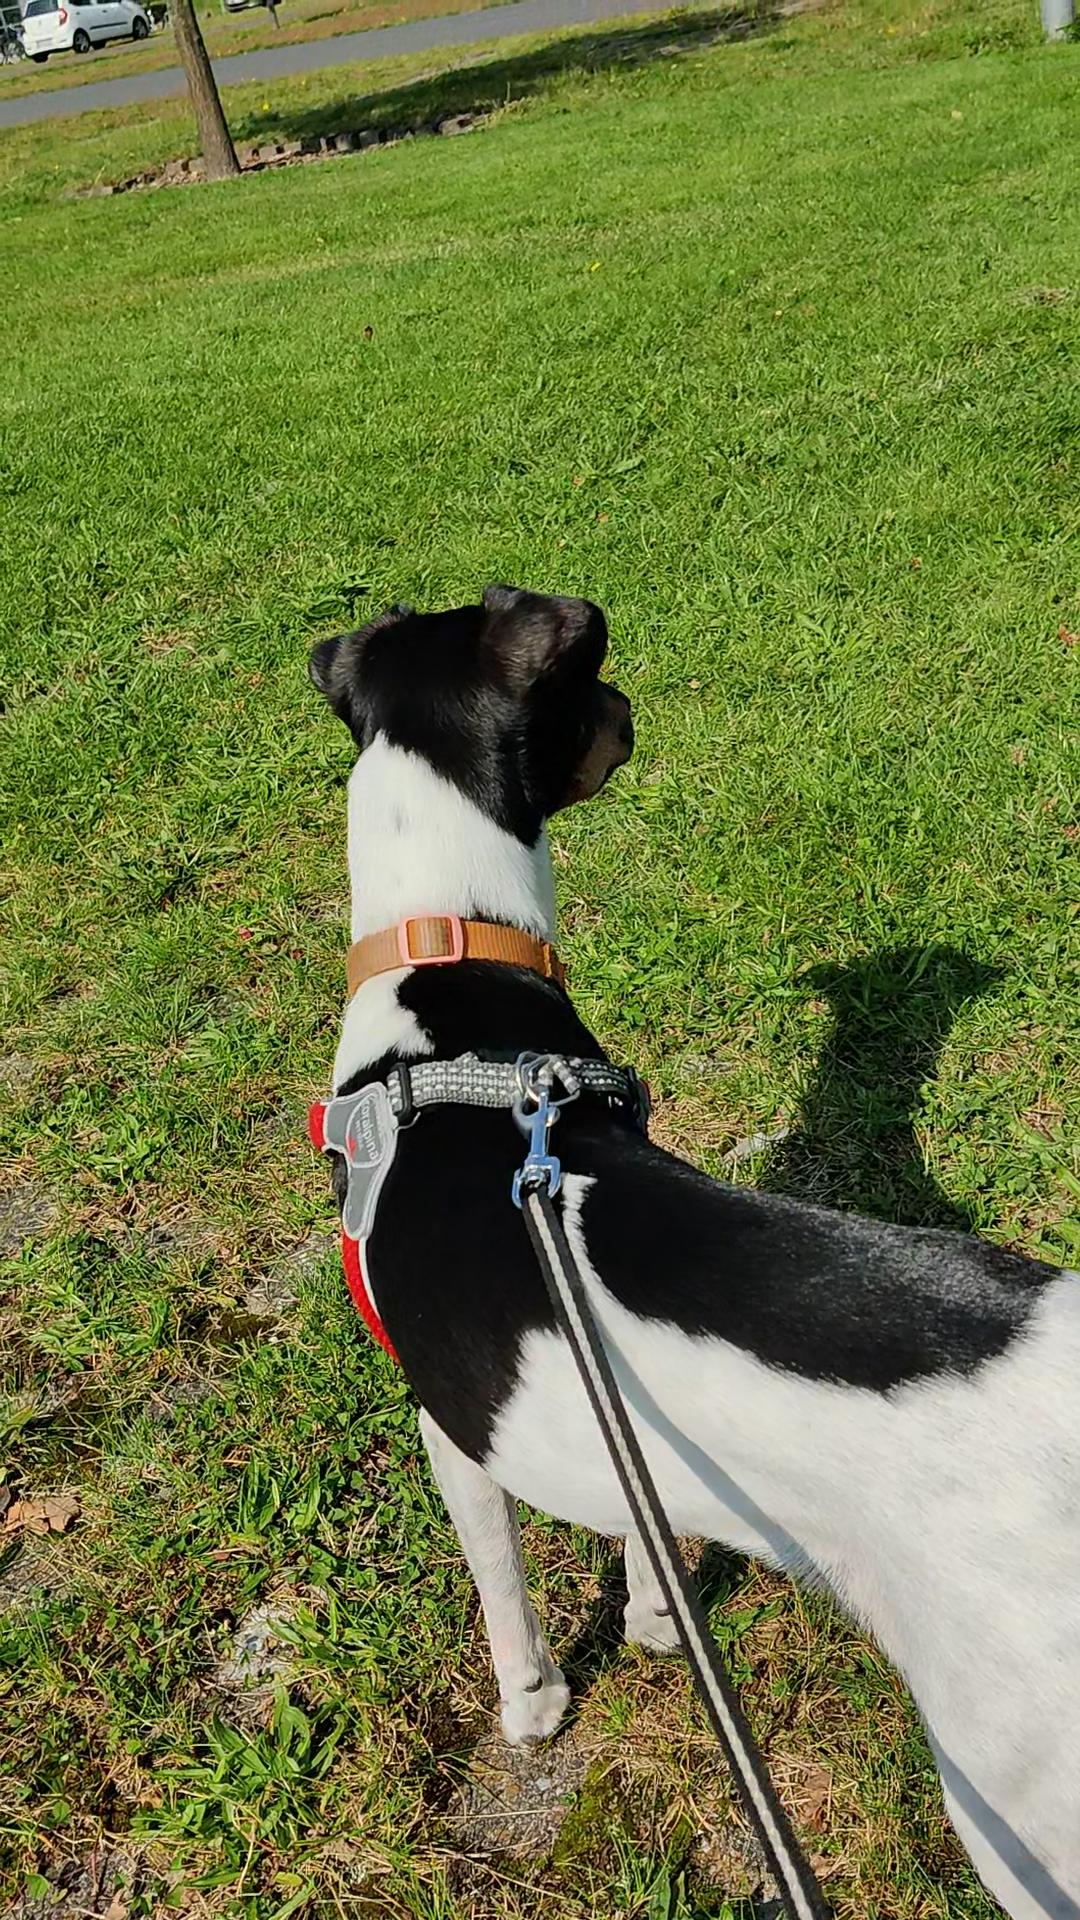Dog: (272, 562, 1079, 1919)
